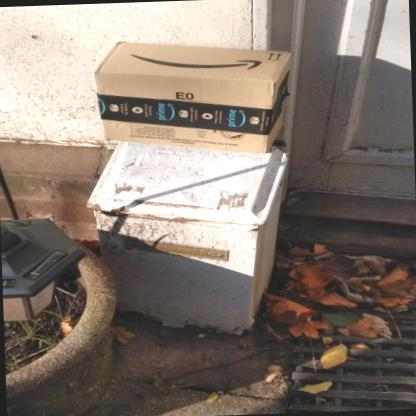box: (93, 40, 294, 156)
